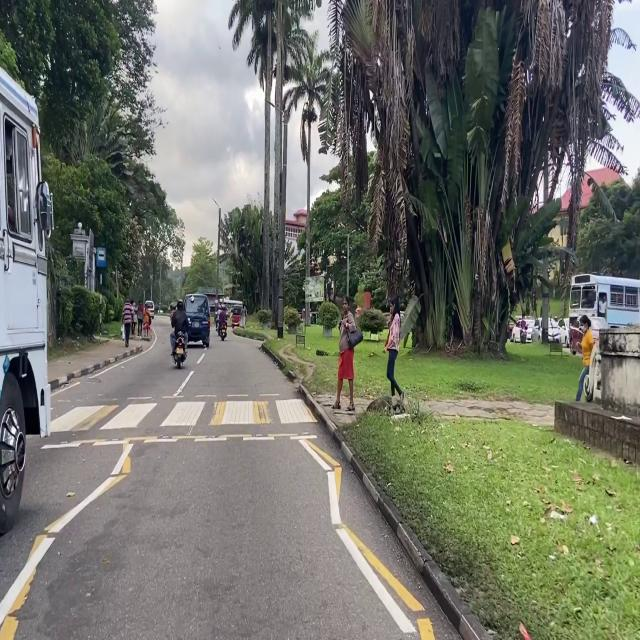bus: (0, 69, 53, 533), (569, 274, 640, 327)
car: (569, 316, 607, 354), (532, 318, 562, 343), (511, 317, 534, 342), (558, 318, 569, 346)
motorcycle: (173, 331, 187, 369), (220, 324, 226, 341), (520, 329, 526, 344)
person: (333, 297, 362, 411), (385, 295, 403, 400), (576, 315, 594, 402), (170, 300, 188, 352), (122, 299, 133, 347), (130, 299, 137, 335), (137, 299, 143, 337), (143, 307, 151, 335), (598, 295, 607, 317), (219, 306, 227, 328), (215, 305, 221, 330), (241, 304, 247, 328), (520, 319, 527, 331)
three wheeler: (232, 306, 241, 328), (168, 303, 176, 313)
van: (184, 293, 210, 347), (145, 300, 155, 319)
